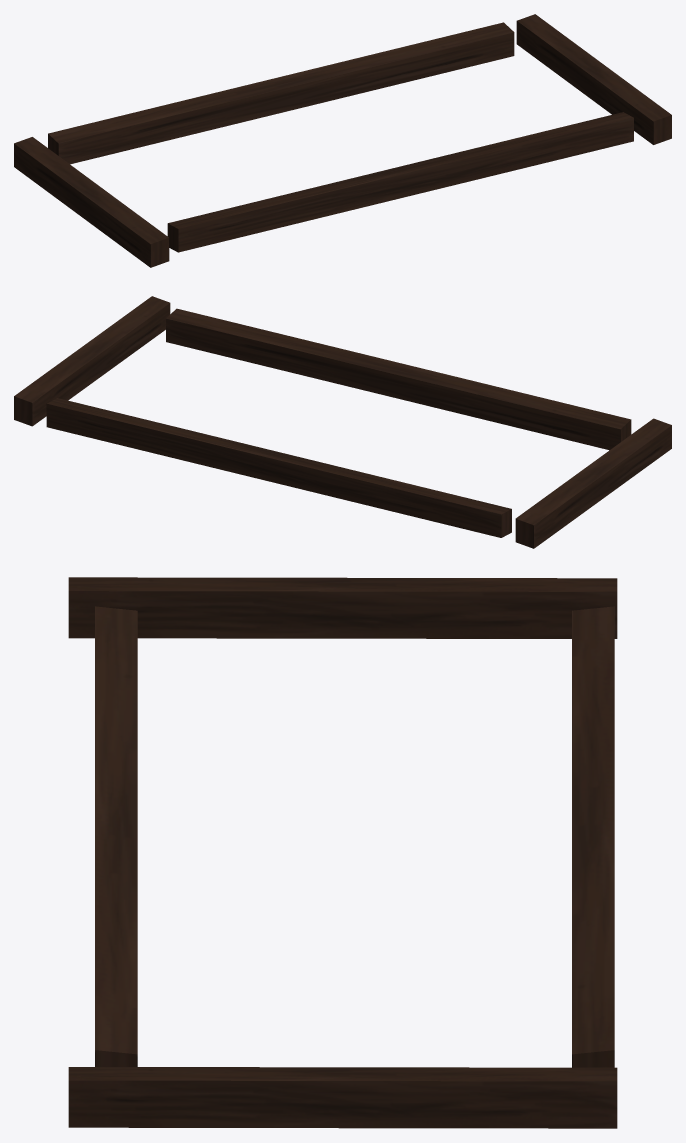
File: tafelplanken.fbx
3 views of the same model, one above another, from view 1: azimuth 30°, elevation 25°; view 2: azimuth 150°, elevation 25°; view 3: azimuth 270°, elevation 25° (orthographic). The views are drawn at different scales.
Parts seen in each view (by area): view 1: pasted__pCube2 (×2), pasted__pasted__pCube2, pCube2; view 2: pasted__pCube2 (×2), pasted__pasted__pCube2, pCube2; view 3: pasted__pCube2 (×2), pCube2, pasted__pasted__pCube2.
Part boxes in pixels (bbox=[...]): pasted__pCube2 (×2): bbox=[48, 14, 671, 164]; pasted__pasted__pCube2: bbox=[167, 112, 633, 252]; pCube2: bbox=[14, 137, 169, 267]; pasted__pCube2 (×2): bbox=[14, 296, 511, 537]; pasted__pasted__pCube2: bbox=[166, 308, 631, 450]; pCube2: bbox=[515, 418, 671, 548]; pasted__pCube2 (×2): bbox=[68, 606, 617, 1128]; pCube2: bbox=[68, 577, 617, 638]; pasted__pasted__pCube2: bbox=[95, 606, 137, 1066].
Bounding box in the file's own units: 5.65 × 0.2665 × 2.58.
